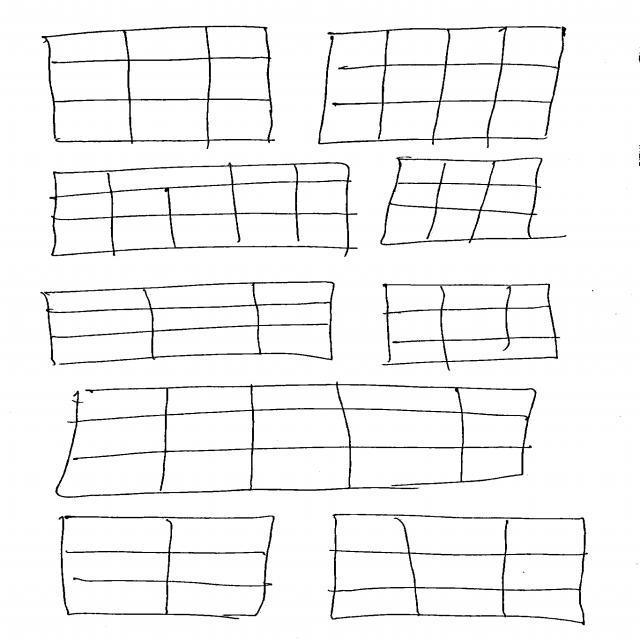table: (53, 384, 539, 501), (312, 25, 567, 148), (51, 162, 352, 261), (328, 513, 589, 626), (43, 24, 280, 147), (39, 281, 337, 367), (58, 515, 278, 620), (379, 156, 548, 247), (383, 283, 559, 370)
